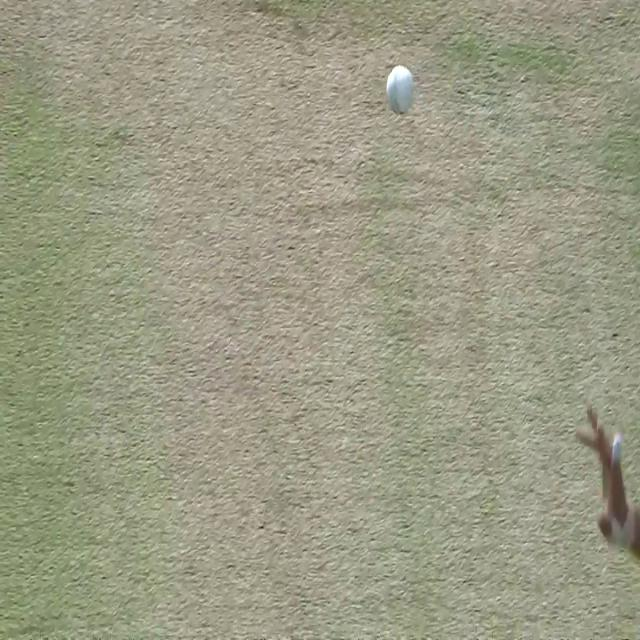ball: (385, 62, 415, 116)
